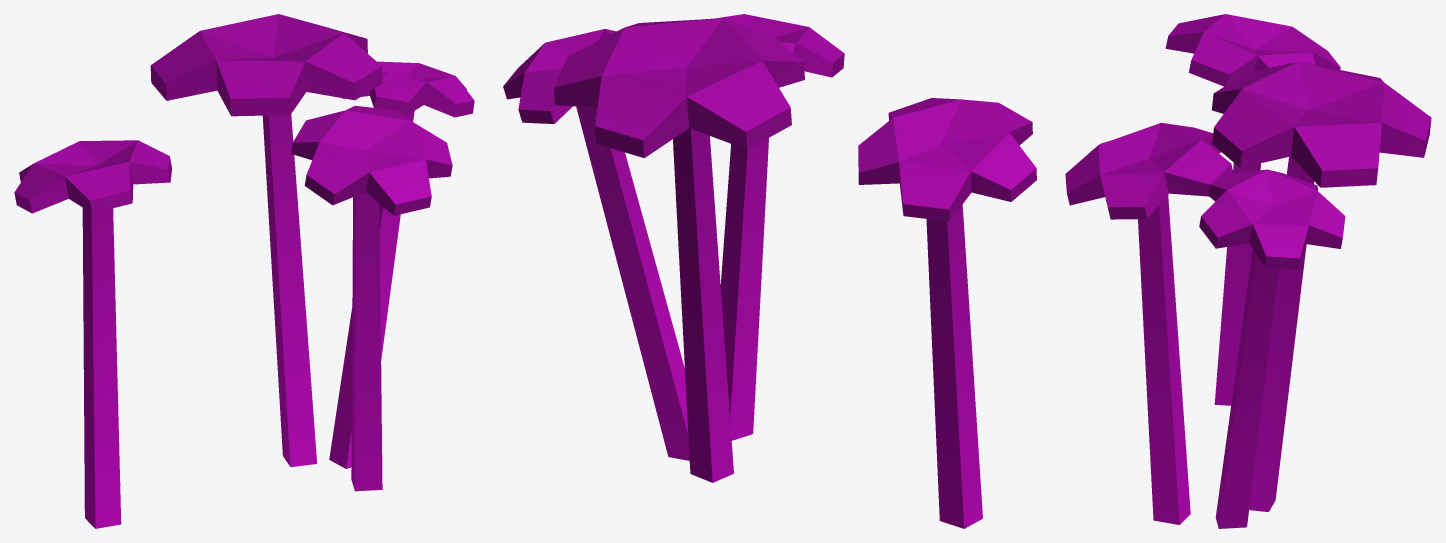
Rendered from SM_Env_Flowers_03.fbx.
The picture shows the model from 3 angles, left to right: view 1: azimuth 30°, elevation 25°; view 2: azimuth 150°, elevation 25°; view 3: azimuth 270°, elevation 25°; orthographic projection. The views are drawn at different scales.
Visible parts, largest first — view 1: SM_Env_Flowers_03; view 2: SM_Env_Flowers_03; view 3: SM_Env_Flowers_03.
Part boxes in pixels (x1,y1,x2,y2): SM_Env_Flowers_03: [14, 14, 474, 528]; SM_Env_Flowers_03: [503, 14, 1036, 528]; SM_Env_Flowers_03: [1065, 14, 1431, 528].
Size of the model in its own units: 59.87 by 51.27 by 41.03.
